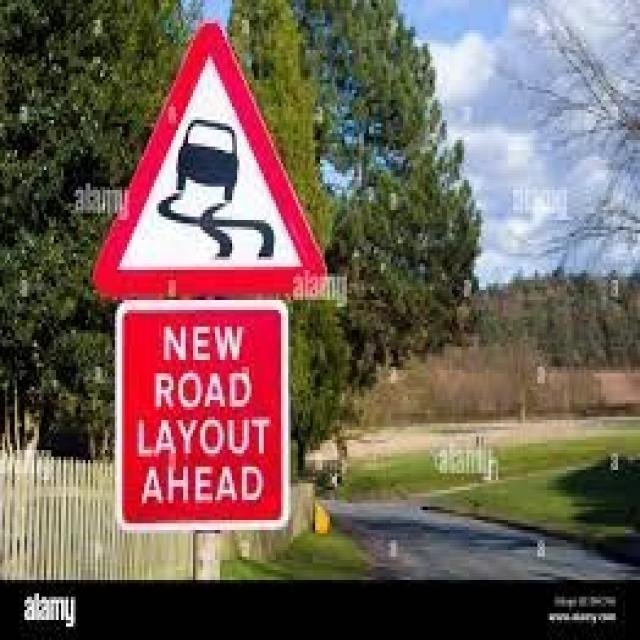road_slippery: (92, 20, 329, 306)
